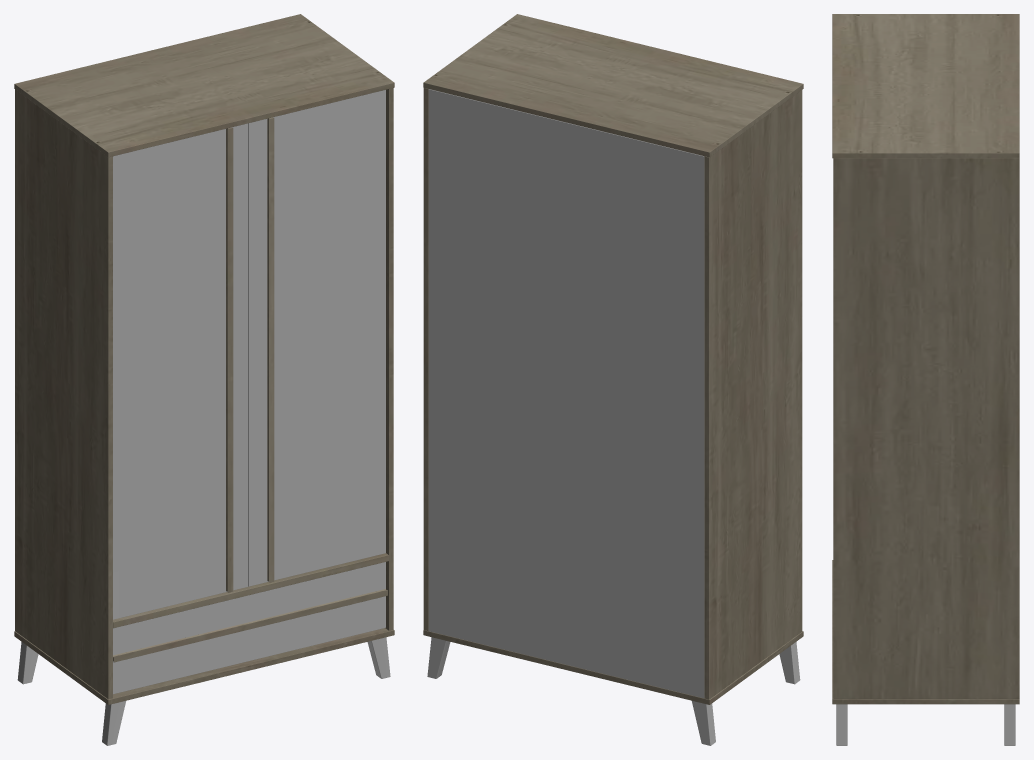
The model's file is abo-B07RMYWFHY.glb.
3 views of the same model, side by side, from view 1: azimuth 30°, elevation 25°; view 2: azimuth 150°, elevation 25°; view 3: azimuth 270°, elevation 25° (orthographic).
Bounding box in the file's own units: 1.01 × 2 × 0.571.
1 material, 1 textured.
